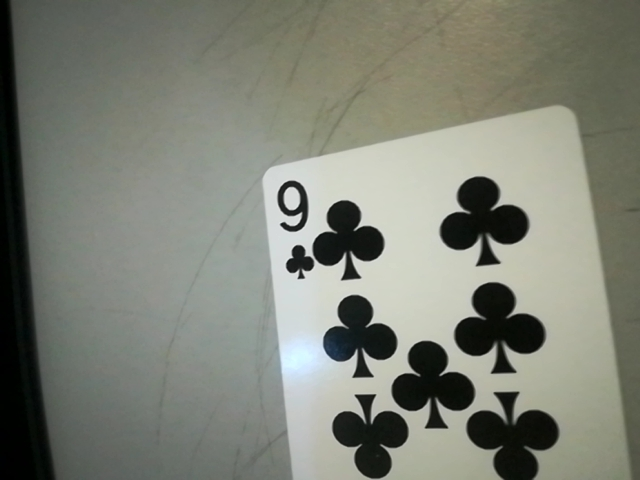mh 9: (262, 166, 318, 283)
